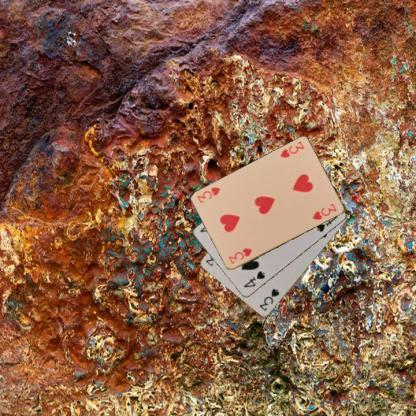3h: (277, 138, 306, 160), (226, 245, 254, 266)
3s: (256, 286, 281, 313)
4s: (241, 269, 267, 289)
